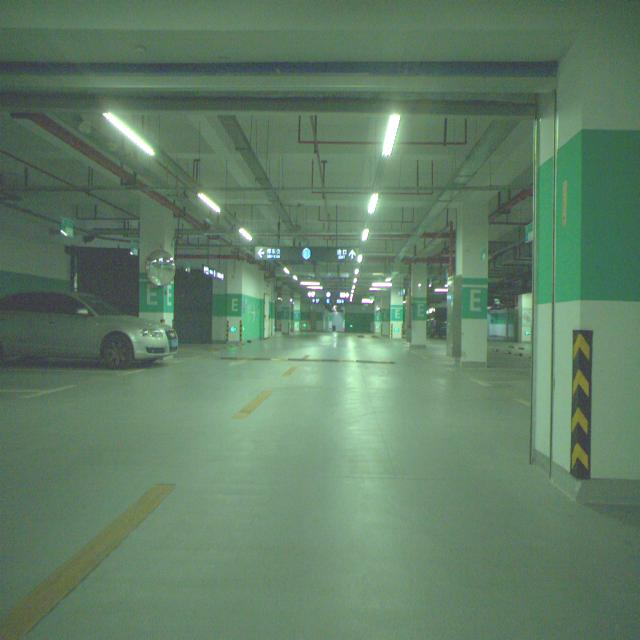pillar: (455, 203, 489, 366), (139, 194, 175, 326)
